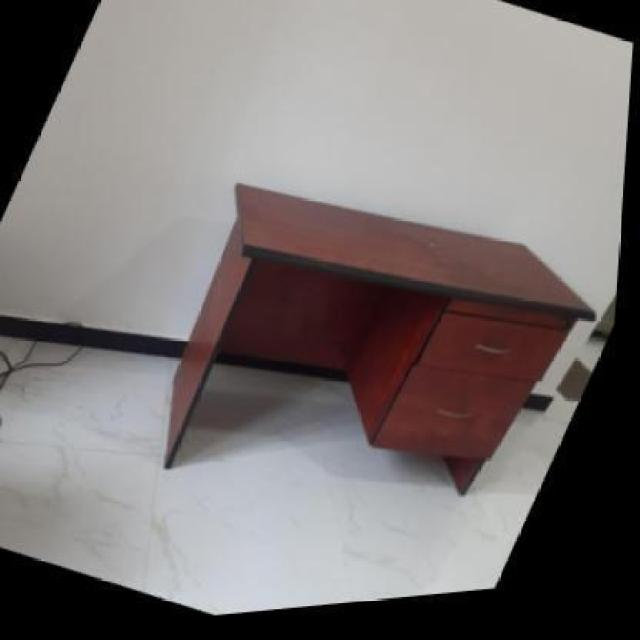tables: (160, 180, 595, 495)
